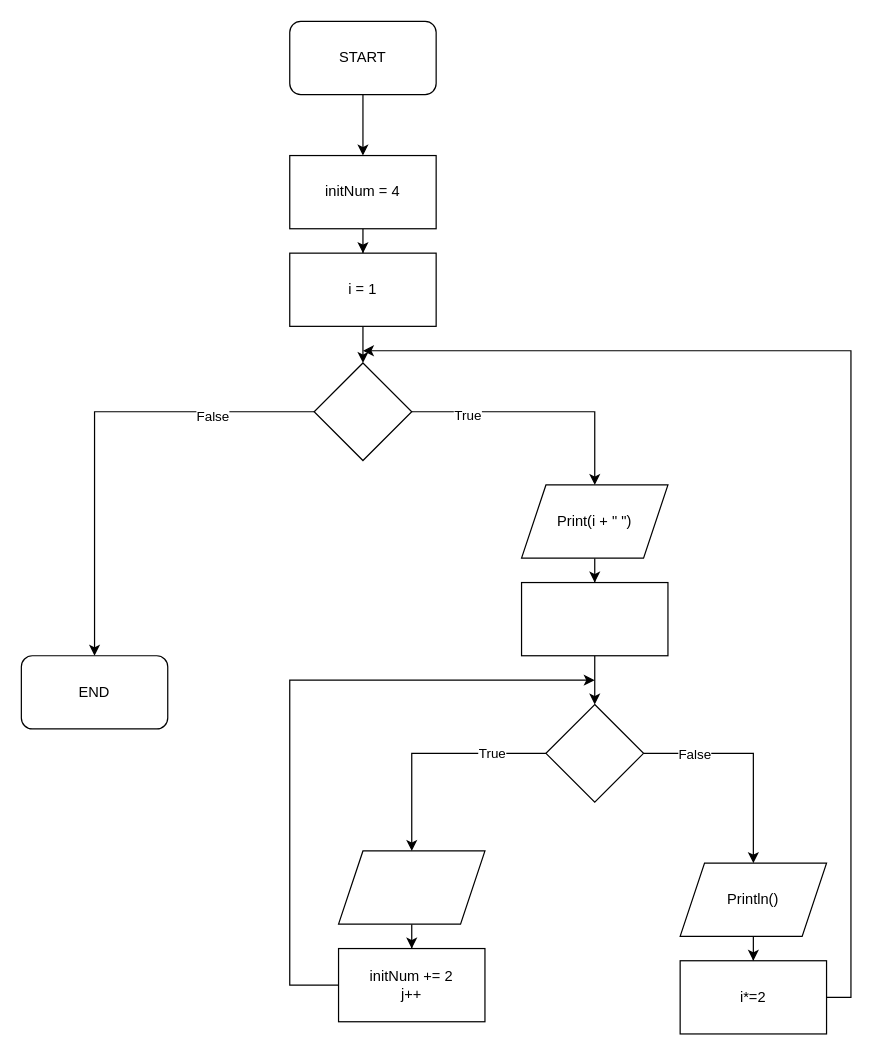
This 882x1055 diagram has some shape labels left out. The centre of each missing label's shape, as x and y in pixels:
i <= 16: (x=362, y=411)
j <= i - j: (x=594, y=752)
j = 1: (x=594, y=618)
Print(initNum + " "): (x=411, y=887)
